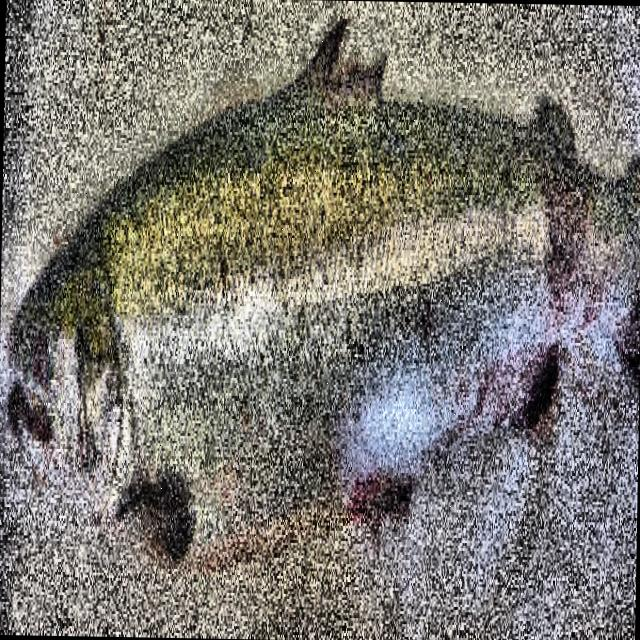mild_red: (83, 18, 640, 561)
